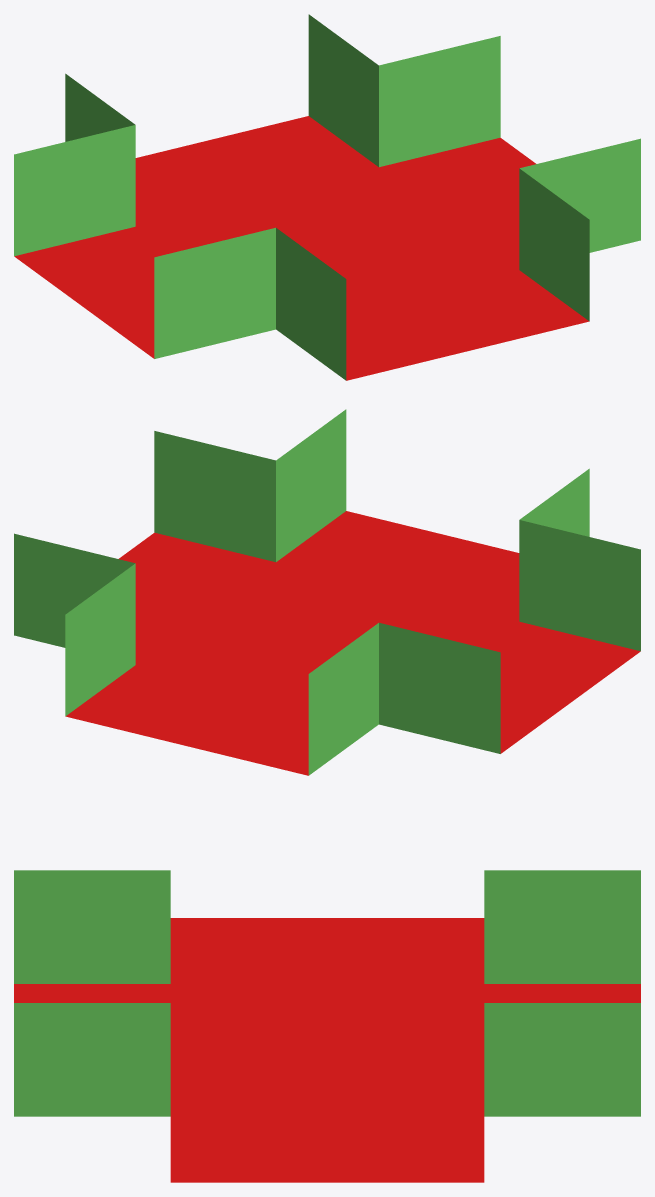
The model's file is collider_4_way_0.fbx.
3 views of the same model, one above another, from view 1: azimuth 30°, elevation 25°; view 2: azimuth 150°, elevation 25°; view 3: azimuth 270°, elevation 25° (orthographic). The views are drawn at different scales.
Visible parts, largest first — view 1: col_4_way; view 2: col_4_way; view 3: col_4_way.
Boxes of the visible parts, x1=… form: col_4_way: x1=14, y1=14, x2=640, y2=380; col_4_way: x1=14, y1=409, x2=640, y2=775; col_4_way: x1=14, y1=870, x2=640, y2=1182.
Size of the model in its own units: 2000 by 400 by 2000.
